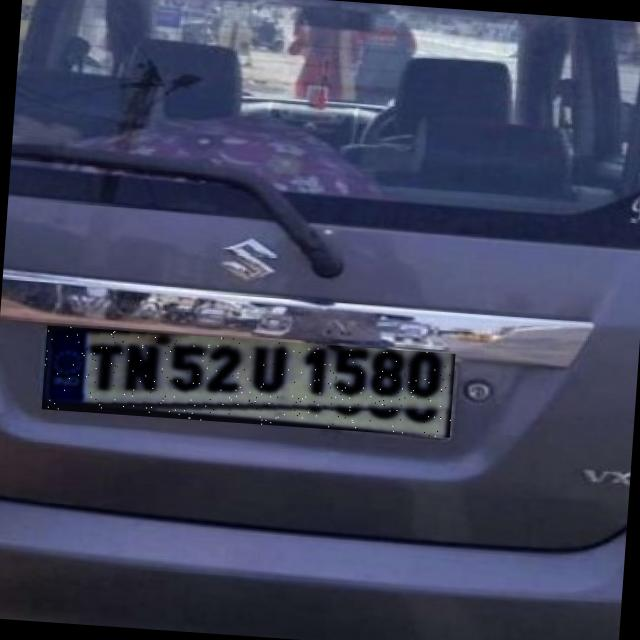Plate: (42, 326, 456, 438)
